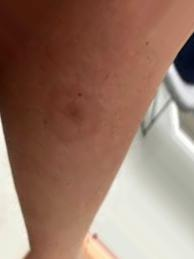Tick: (43, 82, 100, 146)
